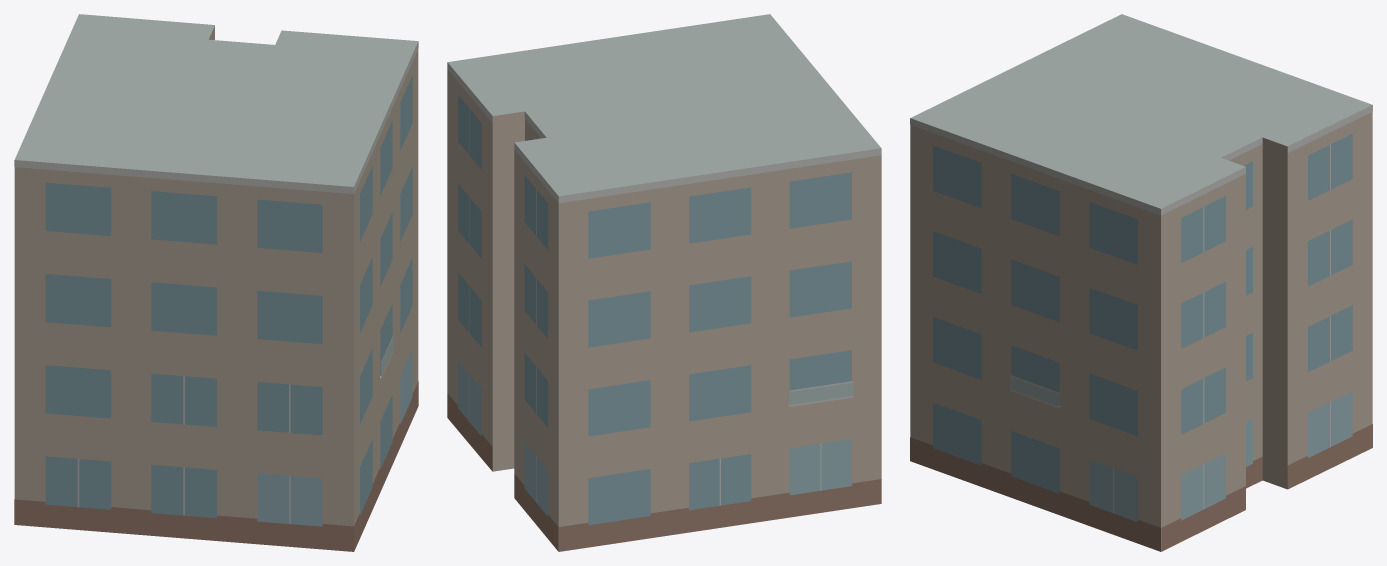
The model's file is survey-upis-32910862.glb.
3 views of the same model, side by side, from view 1: azimuth 30°, elevation 25°; view 2: azimuth 150°, elevation 25°; view 3: azimuth 270°, elevation 25° (orthographic). The views are drawn at different scales.
Parts seen in each view (by area): view 1: survey-upis-32910862.tmp; view 2: survey-upis-32910862.tmp; view 3: survey-upis-32910862.tmp.
Boxes of the visible parts, bbox=[...] form: survey-upis-32910862.tmp: bbox=[14, 14, 418, 551]; survey-upis-32910862.tmp: bbox=[447, 14, 881, 551]; survey-upis-32910862.tmp: bbox=[910, 14, 1372, 551].
Bounding box in the file's own units: 15.24 × 12.5 × 15.28.
